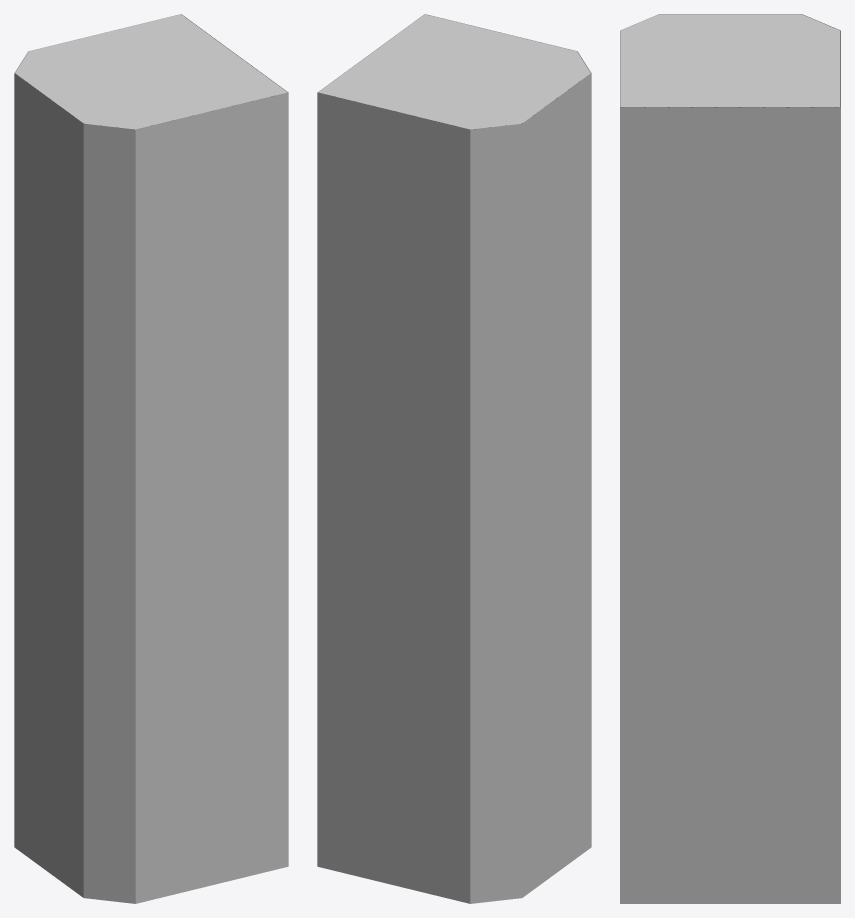
File: Building_Component_08.fbx
3 renders of one model, left to right at view 1: azimuth 30°, elevation 25°; view 2: azimuth 150°, elevation 25°; view 3: azimuth 270°, elevation 25°, orthographic. The views are drawn at different scales.
Visible parts, largest first — view 1: Building_Component_08_Emission, Building_Component_08; view 2: Building_Component_08_Emission, Building_Component_08; view 3: Building_Component_08_Emission, Building_Component_08.
Boxes of the visible parts, <box> form: Building_Component_08_Emission: <box>14,14,288,903</box>; Building_Component_08: <box>15,14,287,129</box>; Building_Component_08_Emission: <box>317,14,591,903</box>; Building_Component_08: <box>318,14,590,129</box>; Building_Component_08_Emission: <box>620,14,840,903</box>; Building_Component_08: <box>620,14,840,107</box>.
Bounding box in the file's own units: 10.05 × 40 × 10.05.
